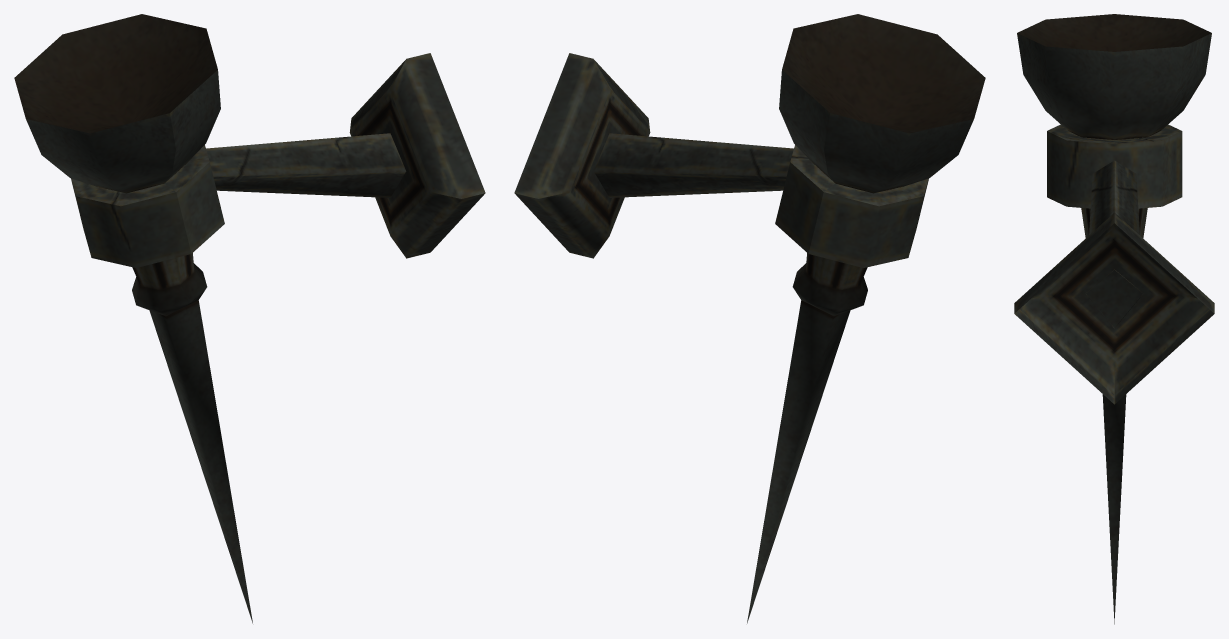
File: Torch_01.fbx
The picture shows the model from 3 angles, left to right: view 1: azimuth 30°, elevation 25°; view 2: azimuth 150°, elevation 25°; view 3: azimuth 270°, elevation 25°; orthographic projection. The views are drawn at different scales.
Visible parts, largest first — view 1: Torch_01_LOD0; view 2: Torch_01_LOD0; view 3: Torch_01_LOD0.
Boxes of the visible parts, x1,y1,x2,y2 form: Torch_01_LOD0: (14, 14, 485, 623); Torch_01_LOD0: (514, 14, 985, 623); Torch_01_LOD0: (1014, 14, 1214, 624).
Size of what is drawn, in the model's own units: 0.5578 by 0.8005 by 0.2633.
1 material, 1 textured.
